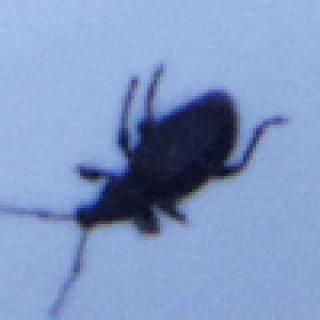bvw: (1, 64, 287, 318)
